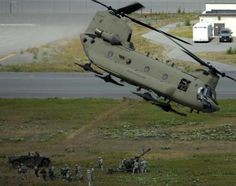chinook: (73, 3, 231, 117)
